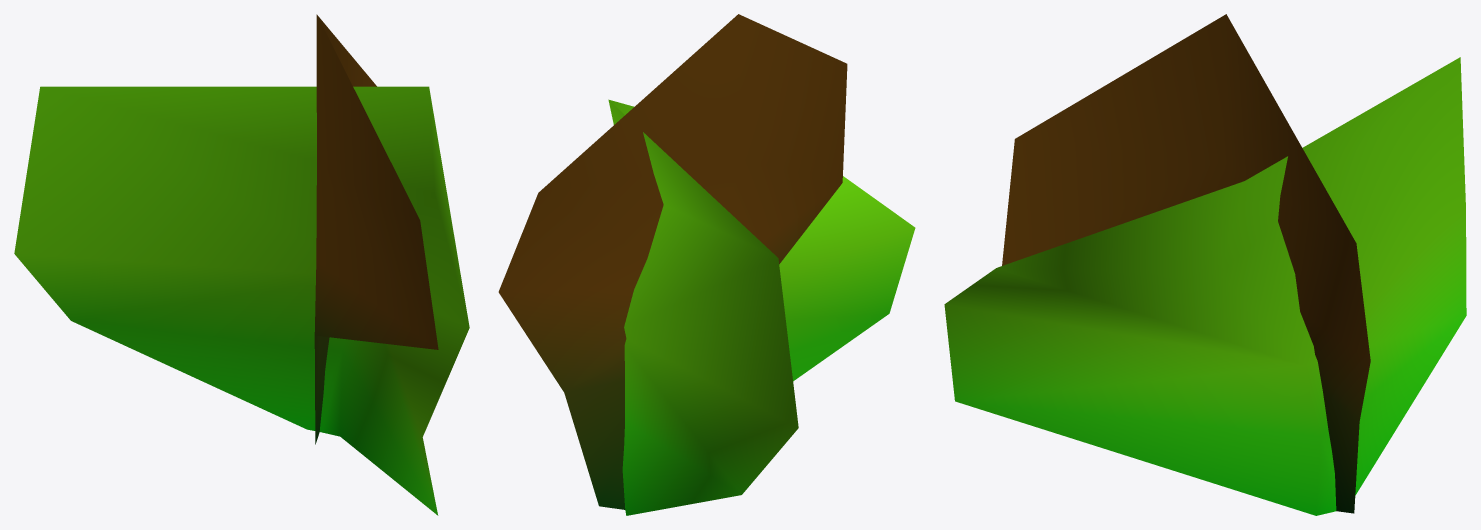
Rendered from Seaweed_LOD0_Var1_sdpjN.fbx.
3 renders of one model, left to right at view 1: azimuth 30°, elevation 25°; view 2: azimuth 150°, elevation 25°; view 3: azimuth 270°, elevation 25°, orthographic.
Parts seen in each view (by area): view 1: _7ef0_Var1_LOD0; view 2: _7ef0_Var1_LOD0; view 3: _7ef0_Var1_LOD0.
Boxes of the visible parts, x1,y1,x2,y2 form: _7ef0_Var1_LOD0: (14, 14, 469, 515); _7ef0_Var1_LOD0: (498, 14, 915, 515); _7ef0_Var1_LOD0: (944, 14, 1466, 515).
Size of the model in its own units: 10.66 by 13.89 by 13.87.
